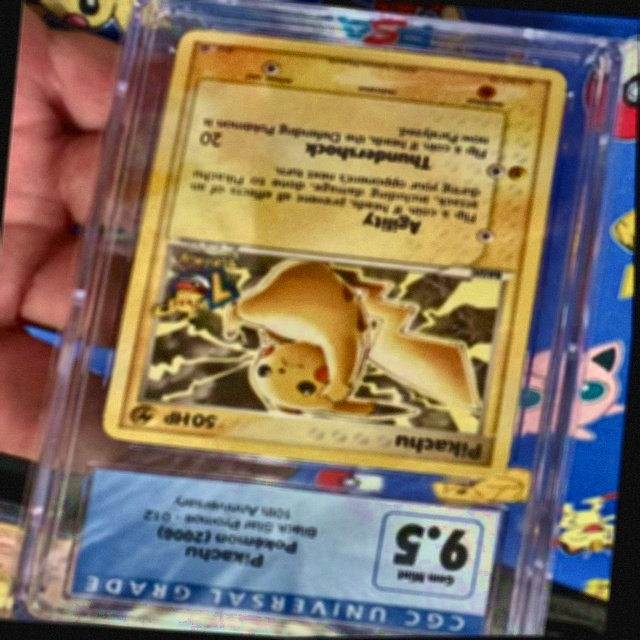card: (99, 26, 569, 481)
